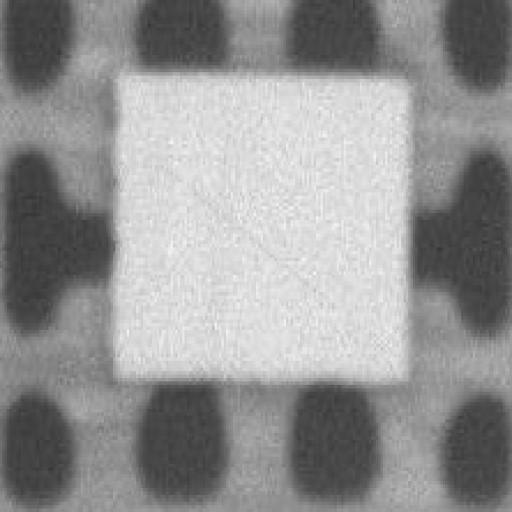DIE_CRACK: (230, 106, 478, 196)
